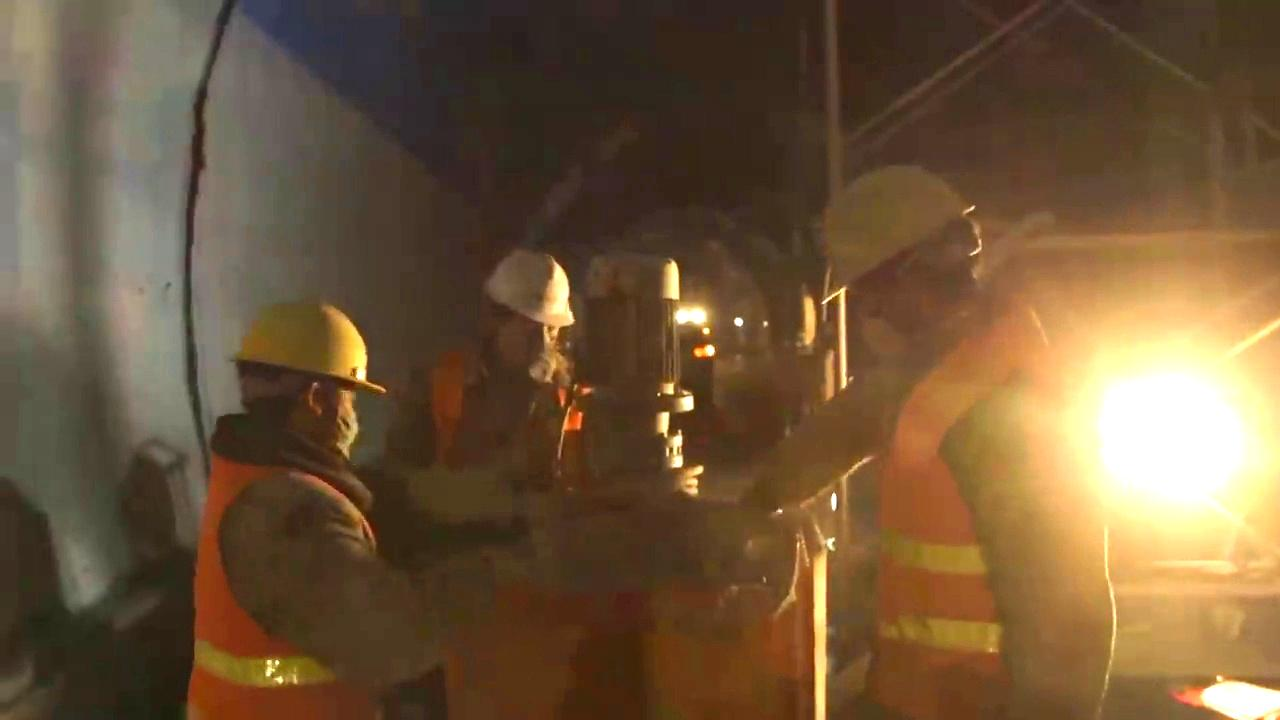helmet: (819, 165, 981, 357), (225, 294, 387, 462), (482, 245, 575, 369)
